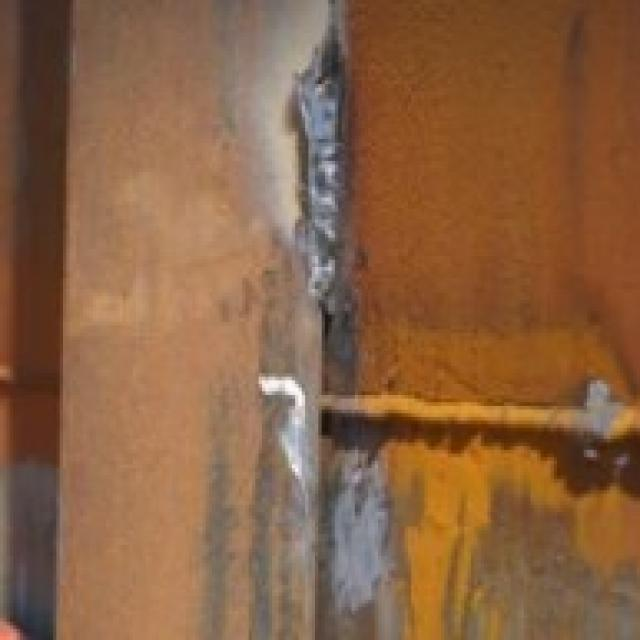Bad Welding: (328, 384, 627, 439), (292, 47, 352, 311)
